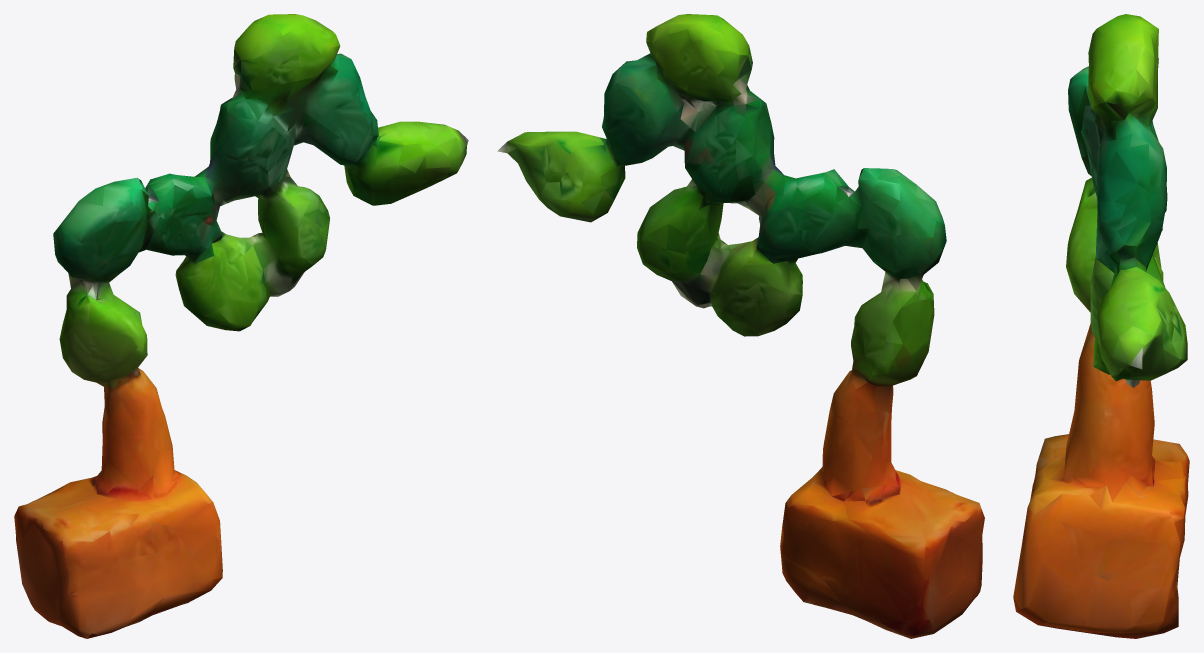
Rendered from giuli-greenwash.glb.
3 views of the same model, side by side, from view 1: azimuth 30°, elevation 25°; view 2: azimuth 150°, elevation 25°; view 3: azimuth 270°, elevation 25° (orthographic). The views are drawn at different scales.
Parts seen in each view (by area): view 1: Mesh; view 2: Mesh; view 3: Mesh.
Boxes of the visible parts, x1,y1,x2,y2 form: Mesh: (14,14,468,638); Mesh: (497,14,984,638); Mesh: (1013,14,1189,638).
Bounding box in the file's own units: 0.8685 × 1.01 × 0.2334.
Materials: 1 (1 with a texture image).
